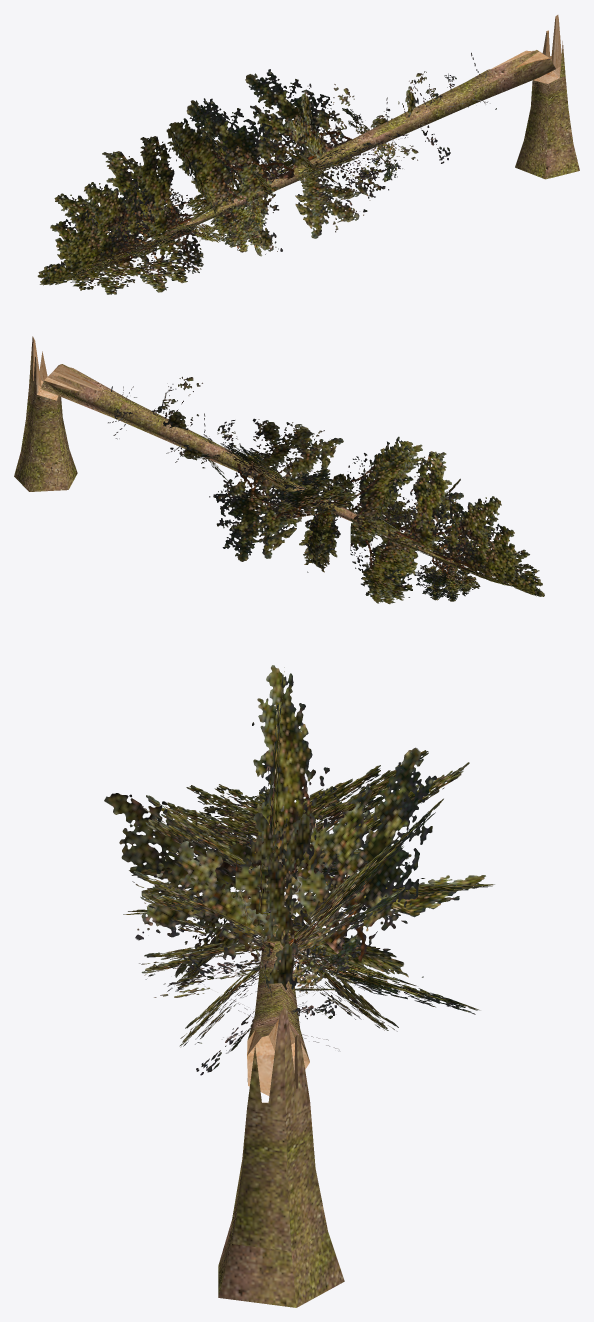
File: SM_Tree_Fell_04.fbx
The picture shows the model from 3 angles, top to bottom: view 1: azimuth 30°, elevation 25°; view 2: azimuth 150°, elevation 25°; view 3: azimuth 270°, elevation 25°; orthographic projection. The views are drawn at different scales.
Parts seen in each view (by area): view 1: Tree_Fell_04; view 2: Tree_Fell_04; view 3: Tree_Fell_04.
Part boxes in pixels (x1,y1,x2,y2): Tree_Fell_04: (37, 15, 579, 294); Tree_Fell_04: (14, 336, 544, 604); Tree_Fell_04: (104, 665, 494, 1307).
Bounding box in the file's own units: 1286 × 452 × 369.
